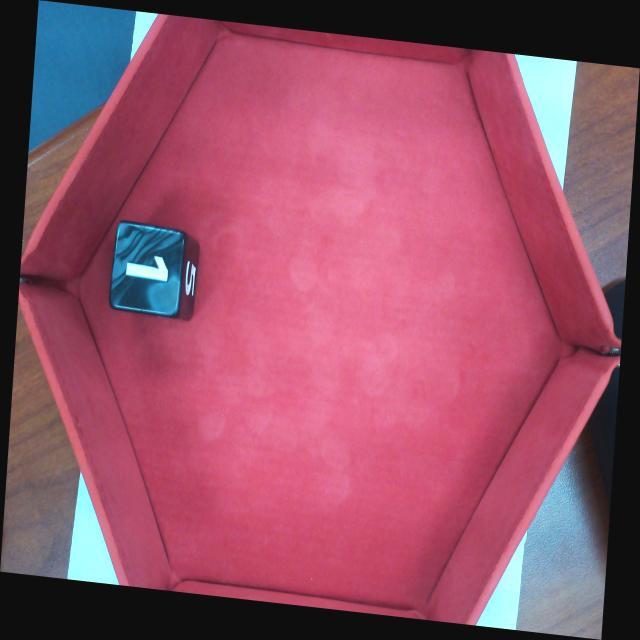dice: (109, 224, 186, 320)
